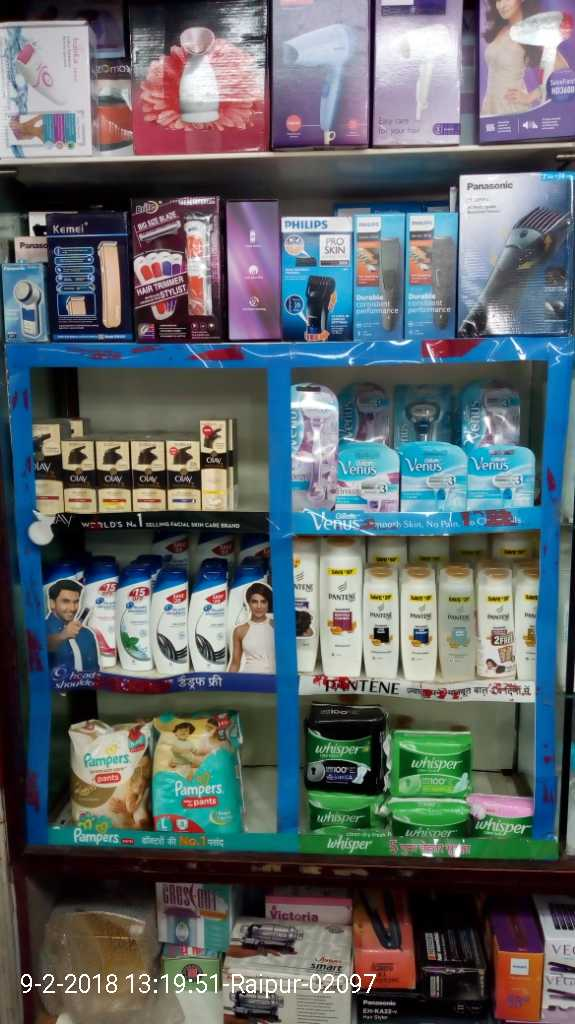venus: (292, 383, 338, 508), (403, 442, 468, 509), (338, 442, 403, 508), (468, 445, 534, 509), (450, 382, 522, 439), (392, 382, 449, 439), (340, 383, 392, 439)
